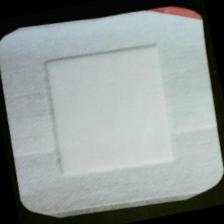Dressing: (1, 1, 224, 224)
Red_T: (139, 1, 207, 38)
